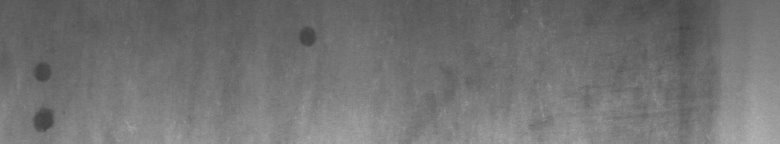fi: (28, 57, 59, 136)
